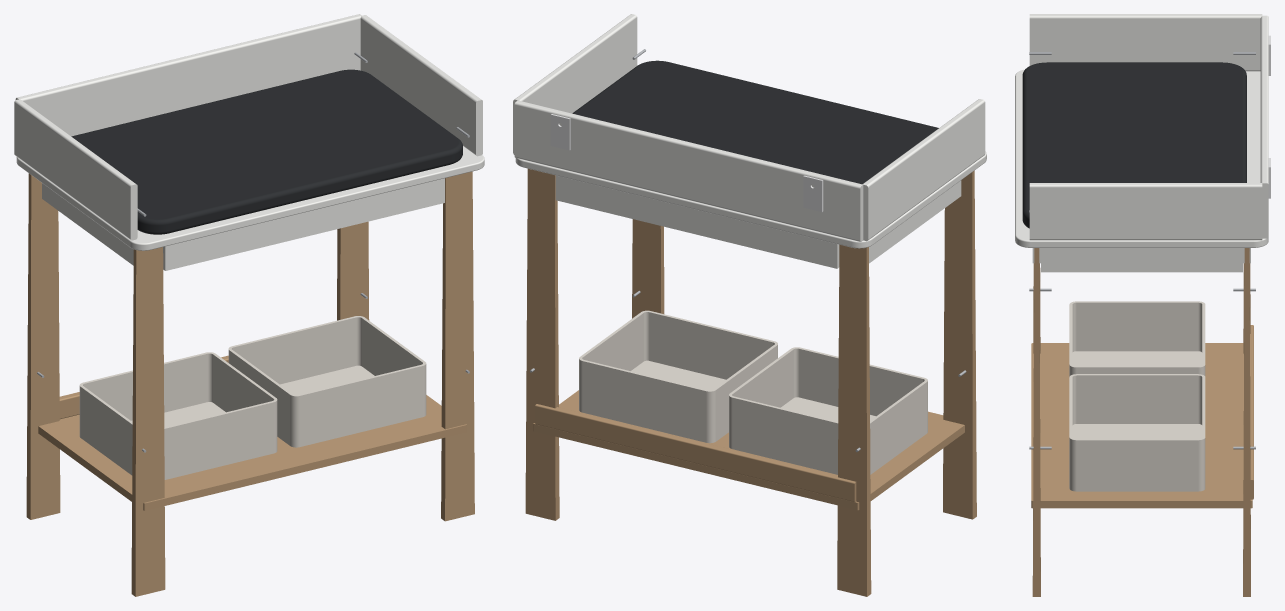
Rendered from anatomy_v2.glb.
The picture shows the model from 3 angles, left to right: view 1: azimuth 30°, elevation 25°; view 2: azimuth 150°, elevation 25°; view 3: azimuth 270°, elevation 25°; orthographic projection.
Visible parts, largest first — view 1: coat.1, fabric.2, body.6, fabric.1, wood.4, wood.5, wood.3, wood.2, body.8, body.3, body.7, body.1 (+2 smaller); view 2: coat.1, body.6, fabric.2, fabric.1, wood.2, wood.1, wood.4, wood.6, body.8, body.2, wood.5, body.7 (+5 smaller); view 3: coat.1, fabric.2, wood.5, body.7, body.8, fabric.1, body.4, body.1, wood.3, wood.1, body.6, wood.6.
Part boxes in pixels (x1,y1,x2,y2): coat.1: (71,69,462,234); fabric.2: (228,316,426,447); body.6: (15,14,361,136); fabric.1: (79,352,277,479); wood.4: (131,247,165,596); wood.5: (38,395,466,510); wood.3: (441,171,474,521); wood.2: (26,173,60,519); body.8: (14,99,137,240); body.3: (163,178,444,270); body.7: (360,15,482,156); body.1: (16,146,484,250); coat.1: (572,60,938,184); body.6: (514,100,863,241); fabric.2: (579,310,777,443); fabric.1: (729,347,927,474); wood.2: (837,244,871,596); wood.1: (525,168,559,520); wood.4: (943,170,976,519); wood.6: (535,404,856,502); body.8: (862,99,985,241); body.2: (555,175,839,268); wood.5: (533,390,964,510); body.7: (513,14,637,154); coat.1: (1022,62,1246,228); fabric.2: (1069,374,1205,491); wood.5: (1031,343,1252,508); body.7: (1029,183,1262,240); body.8: (1029,14,1262,71); fabric.1: (1069,301,1205,376); body.4: (1041,248,1242,272); body.1: (1015,69,1268,247); wood.3: (1032,248,1040,596); wood.1: (1243,248,1250,596); body.6: (1260,15,1268,238); wood.6: (1250,325,1253,499).
Bounding box in the file's own units: 0.9 × 1.01 × 0.5645.
